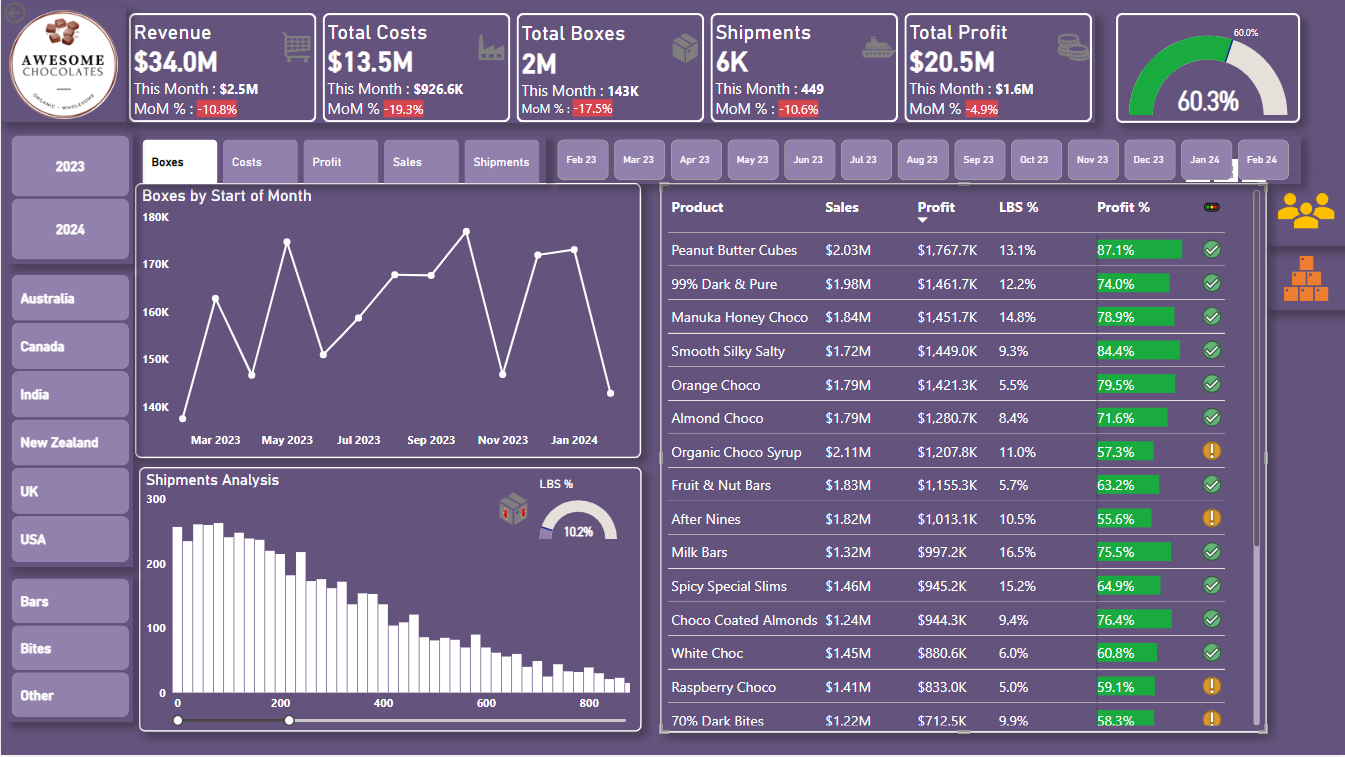

Layout of this report page (visuals, bound fields, positions):
{"tool":"powerbi","page":{"name":"Page 1","canvas":[1920,1080],"ordinal":0},"visuals":[{"type":"cardVisual","fields":{"Data":["_Meaures.Total Sales","_Meaures.Total Costs","_Meaures.Total Boxes","_Meaures.Total Shipments","_Meaures.Total Profit"]},"box":[178.3,20,1385,156.7],"z":0},{"type":"gauge","fields":{"Y":["_Meaures.LBS %"]},"box":[764.7,683.3,120.7,102.5],"z":1000},{"type":"actionButton","box":[0,0,100,40],"z":2000},{"type":"image","box":[698.3,683.3,66.7,90],"z":3000},{"type":"gauge","fields":{"Y":["_Meaures.Profit %"]},"box":[1593.3,20,263.3,156.7],"z":4000},{"type":"image","box":[0,11.7,178.3,165],"z":5000},{"type":"lineChart","fields":{"Y":["_Meaures.Total Boxes"],"Category":["calendar.Start of Month"]},"box":[191.7,263.3,723.3,393.3],"z":6000},{"type":"columnChart","title":"Shipments Analysis","fields":{"Category":["shipments.Boxes (bins)"],"Y":["_Meaures.Shipments"]},"box":[196.7,668.3,718.3,378.3],"z":7000},{"type":"advancedSlicerVisual","fields":{"Values":["Measure selector.Measure selector"]},"box":[196.7,195,581.7,68.3],"z":8000},{"type":"tableEx","title":"Product Table","fields":{"Values":["products.Product","_Meaures.Total Sales","_Meaures.Total Profit","_Meaures.LBS %","_Meaures.Profit %","_Meaures.Profit Target Indicator"]},"box":[941.7,263.3,866.7,785],"z":10000},{"type":"image","title":"People Icon","box":[1808.3,251.7,111.7,101.7],"z":11000},{"type":"image","title":"Product Icon","box":[1808.3,353.3,111.7,91.7],"z":12000},{"type":"advancedSlicerVisual","fields":{"Values":["calendar.Start of Month"]},"box":[790,195,1066.7,68.3],"z":14000},{"type":"advancedSlicerVisual","fields":{"Values":["shipments.Geography"]},"box":[10,388.3,178.3,423.3],"z":15000},{"type":"advancedSlicerVisual","fields":{"Values":["products.Category"]},"box":[10,823.3,178.3,210],"z":15001},{"type":"advancedSlicerVisual","fields":{"Values":["calendar.Year"]},"box":[10,190,178.3,188.3],"z":15002}]}

Visuals, with their boxes in screenshot pixels (x1, y1, x2, y2), scaled from the page's 1920x1080 canvas onto the 1345x757 screenshot:
cardVisual - _Meaures.Total Sales x _Meaures.Total Costs: pyautogui.locateOnScreen(125, 14, 1095, 124)
gauge - _Meaures.LBS %: pyautogui.locateOnScreen(536, 479, 620, 551)
actionButton: pyautogui.locateOnScreen(0, 0, 70, 28)
image: pyautogui.locateOnScreen(489, 479, 536, 542)
gauge - _Meaures.Profit %: pyautogui.locateOnScreen(1116, 14, 1301, 124)
image: pyautogui.locateOnScreen(0, 8, 125, 124)
lineChart - _Meaures.Total Boxes x calendar.Start of Month: pyautogui.locateOnScreen(134, 185, 641, 460)
"Shipments Analysis" columnChart: pyautogui.locateOnScreen(138, 468, 641, 734)
advancedSlicerVisual - Measure selector.Measure selector: pyautogui.locateOnScreen(138, 137, 545, 185)
"Product Table" tableEx: pyautogui.locateOnScreen(660, 185, 1267, 735)
"People Icon" image: pyautogui.locateOnScreen(1267, 176, 1344, 248)
"Product Icon" image: pyautogui.locateOnScreen(1267, 248, 1344, 312)
advancedSlicerVisual - calendar.Start of Month: pyautogui.locateOnScreen(553, 137, 1301, 185)
advancedSlicerVisual - shipments.Geography: pyautogui.locateOnScreen(7, 272, 132, 569)
advancedSlicerVisual - products.Category: pyautogui.locateOnScreen(7, 577, 132, 724)
advancedSlicerVisual - calendar.Year: pyautogui.locateOnScreen(7, 133, 132, 265)
